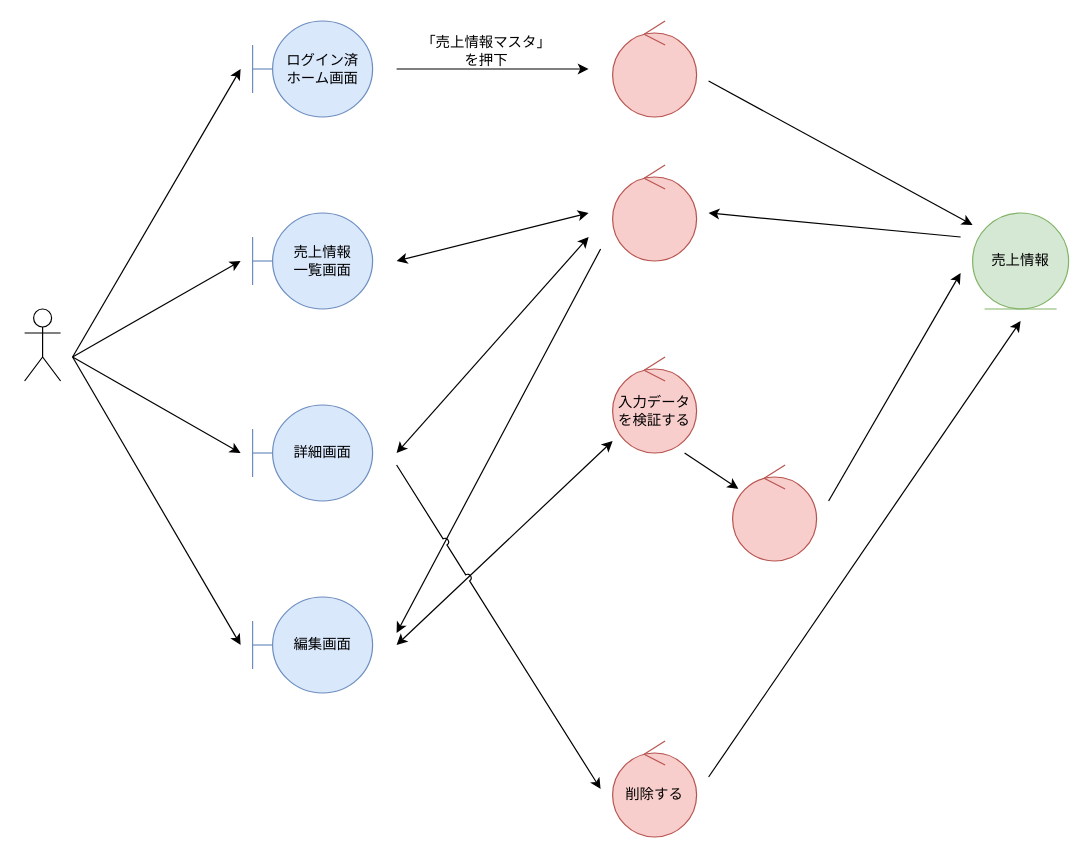
The diagram is 1090 pixels wide and 858 high, and some of its shapes have lost their labels. Each missing label, with the box of its shape:
売上情報 を取得する: (611, 20, 697, 117)
更新する: (731, 464, 817, 561)
管理者: (23, 308, 61, 381)
表示する: (611, 164, 697, 261)
